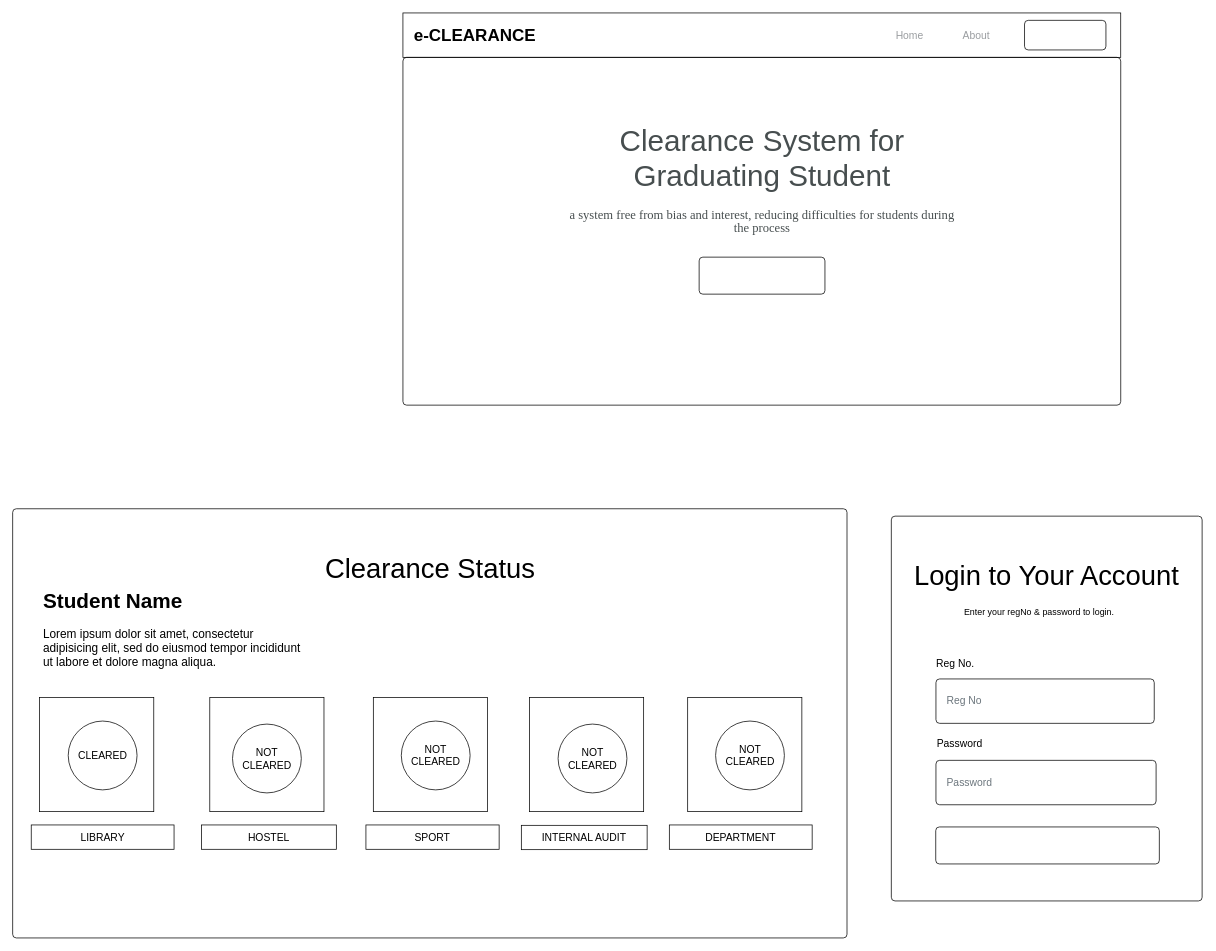
Image size: 1216x951. Some labels were removed from this diagram. The shapes that lost their labels are listed below. From the top down, each one's centre as x and y in pixels, then its label:
[1065,35]: Sign in
[761,275]: Get Started
[1047,845]: Login
